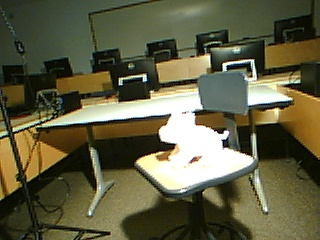piggy: (157, 108, 231, 166)
